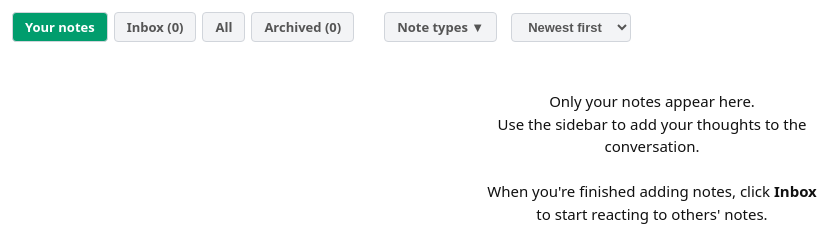
Test: CollabNotesList › hides hint text after switching away from Mine filter
Expected: the text "Use the sidebar to add your thoughts" is shown, x1=498 y1=114 x2=806 y2=156
Click the button "All": coordinates (224, 27) x1=202 y1=12 x2=245 y2=42
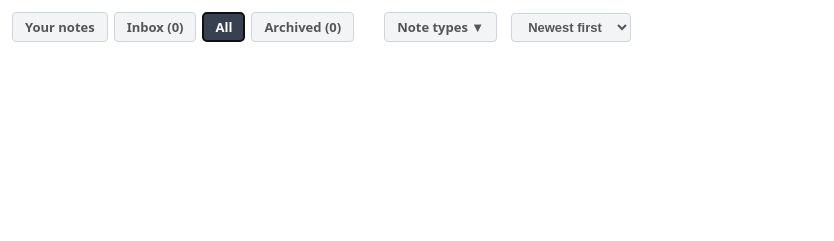
Result: the text "Use the sidebar to add your thoughts" is gone
